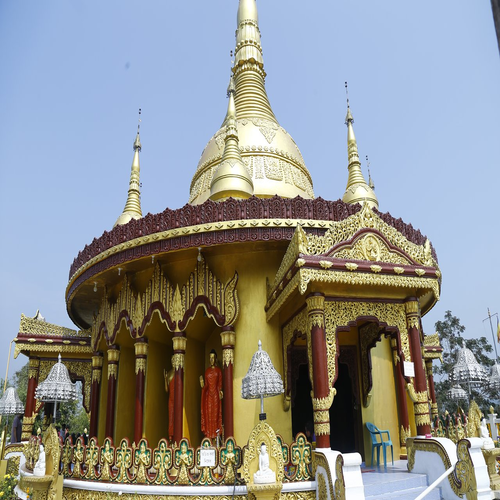Temple: (26, 7, 456, 461)
